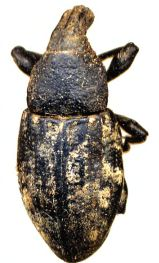dolgonosik: (12, 7, 148, 263)
